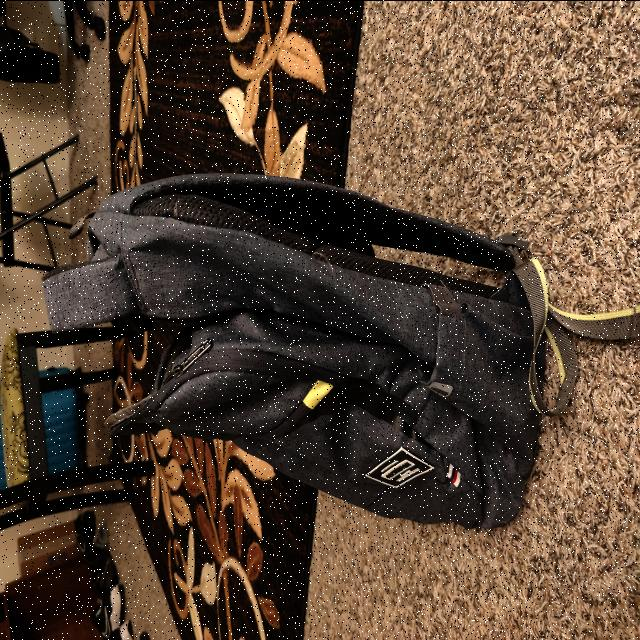bag: (47, 170, 560, 512)
